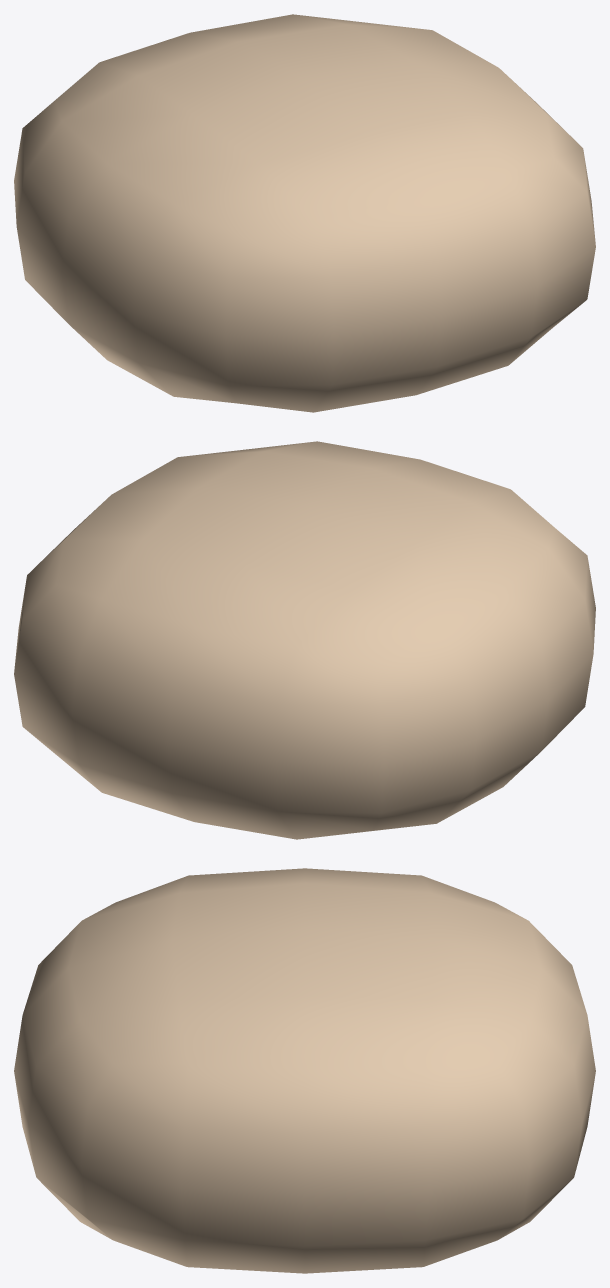
Rendered from bean-bag-chair-transformed.glb.
The picture shows the model from 3 angles, top to bottom: view 1: azimuth 30°, elevation 25°; view 2: azimuth 150°, elevation 25°; view 3: azimuth 270°, elevation 25°; orthographic projection. The views are drawn at different scales.
Visible parts, largest first — view 1: Cube 73; view 2: Cube 73; view 3: Cube 73.
Part boxes in pixels (x1,y1,x2,y2): Cube 73: (14, 14, 595, 412); Cube 73: (14, 441, 595, 839); Cube 73: (14, 868, 595, 1273).
Bounding box in the file's own units: 1.05 × 0.5622 × 1.05.
